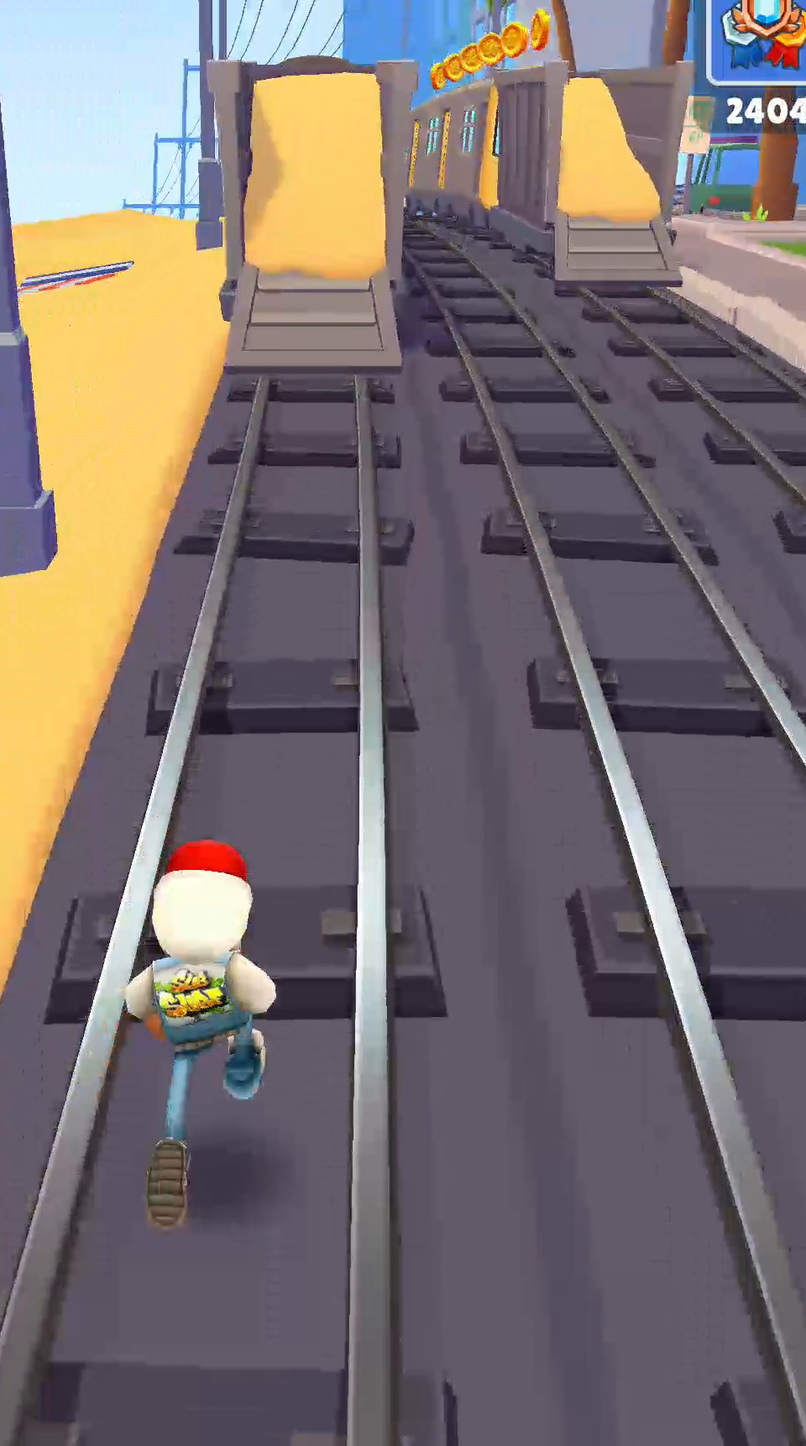climber: (226, 73, 407, 373), (554, 81, 681, 291)
train: (406, 61, 568, 256)
